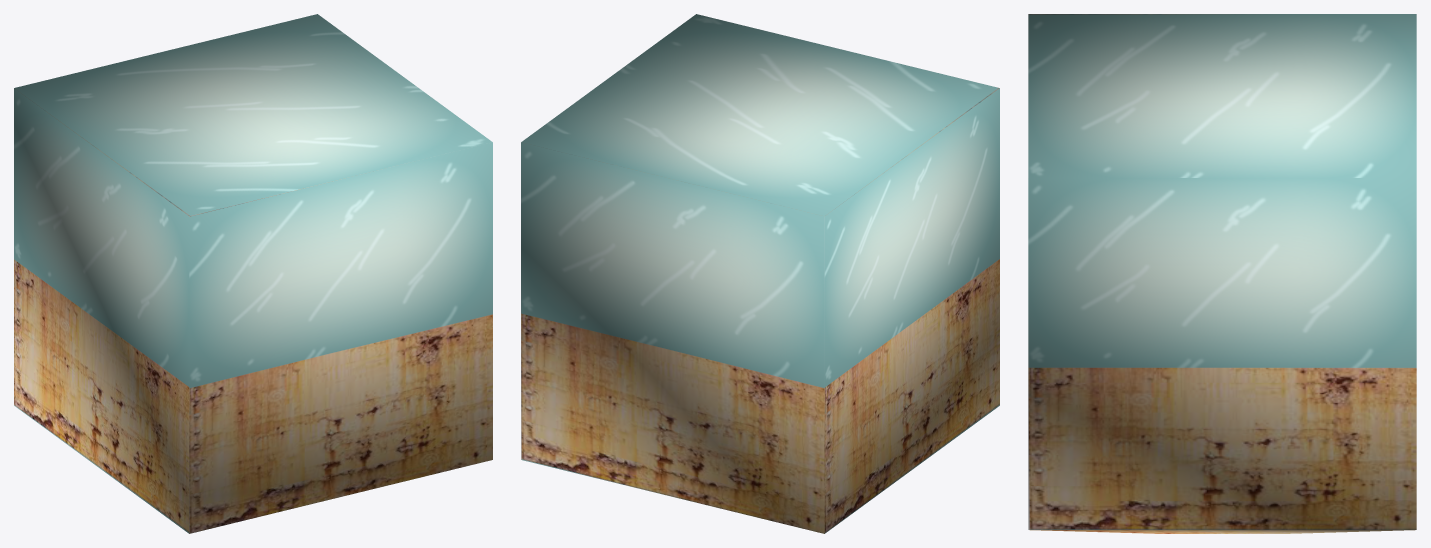
File: plataformaAire3.fbx
3 renders of one model, left to right at view 1: azimuth 30°, elevation 25°; view 2: azimuth 150°, elevation 25°; view 3: azimuth 270°, elevation 25°, orthographic. The views are drawn at different scales.
Visible parts, largest first — view 1: Cube; view 2: Cube; view 3: Cube.
Boxes of the visible parts, <box> form: Cube: <box>14,14,492,533</box>; Cube: <box>521,14,999,533</box>; Cube: <box>1028,14,1416,533</box>.
Size of the model in its own units: 3 by 3.52 by 3.
2 materials, 2 textured.
